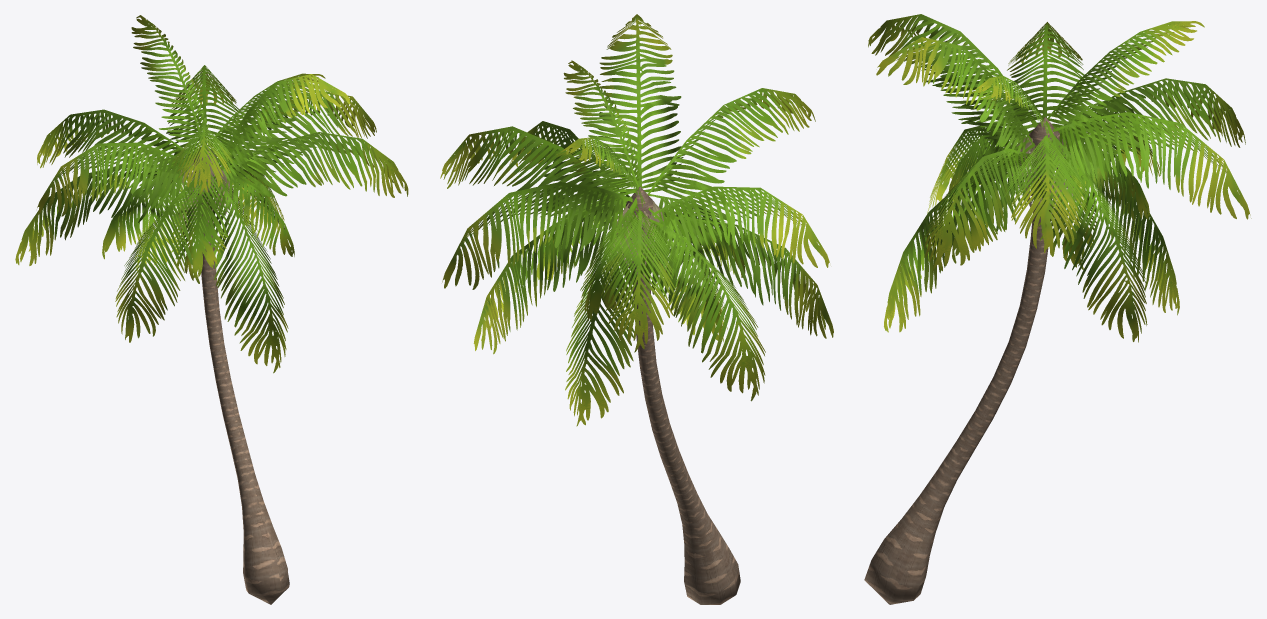
File: Coconut1.fbx
The picture shows the model from 3 angles, left to right: view 1: azimuth 30°, elevation 25°; view 2: azimuth 150°, elevation 25°; view 3: azimuth 270°, elevation 25°; orthographic projection. The views are drawn at different scales.
Parts seen in each view (by area): view 1: Coconut3_LOD0; view 2: Coconut3_LOD0; view 3: Coconut3_LOD0.
Boxes of the visible parts, x1=… form: Coconut3_LOD0: x1=15, y1=15, x2=408, y2=604; Coconut3_LOD0: x1=440, y1=14, x2=833, y2=604; Coconut3_LOD0: x1=864, y1=14, x2=1251, y2=604.
Size of the model in its own units: 753 by 1063 by 624.
